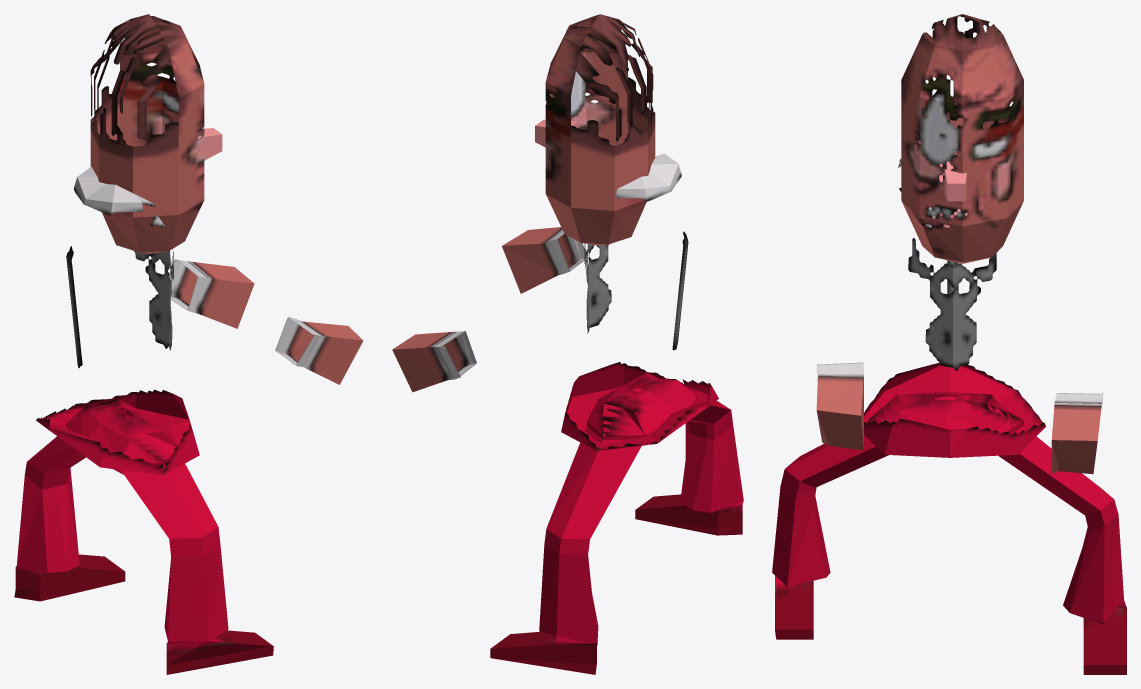
File: BadRide1.glb
The picture shows the model from 3 angles, left to right: view 1: azimuth 30°, elevation 25°; view 2: azimuth 150°, elevation 25°; view 3: azimuth 270°, elevation 25°; orthographic projection. The views are drawn at different scales.
Parts seen in each view (by area): view 1: BadRide1; view 2: BadRide1; view 3: BadRide1.
Boxes of the visible parts, box(x1,y1,x2,y2) form: BadRide1: box(14, 14, 363, 674); BadRide1: box(392, 14, 743, 674); BadRide1: box(772, 14, 1126, 674).
Bounding box in the file's own units: 34.23 × 78.75 × 39.35.
Materials: 1 (1 with a texture image).
